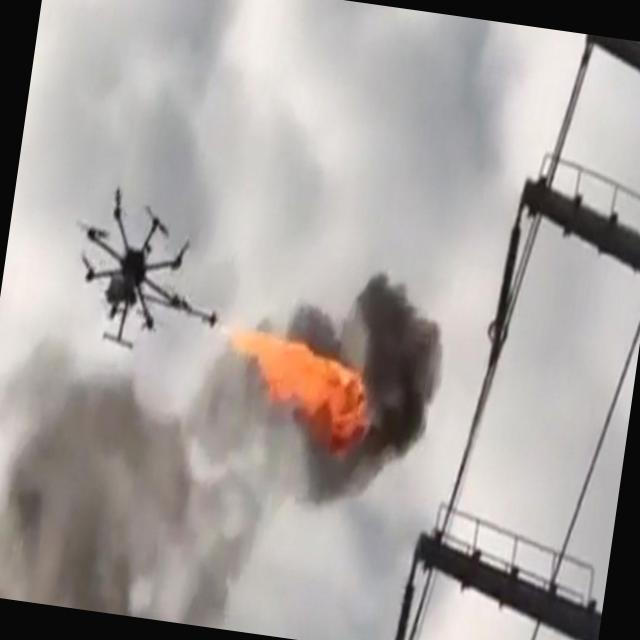drone: (68, 179, 202, 359)
